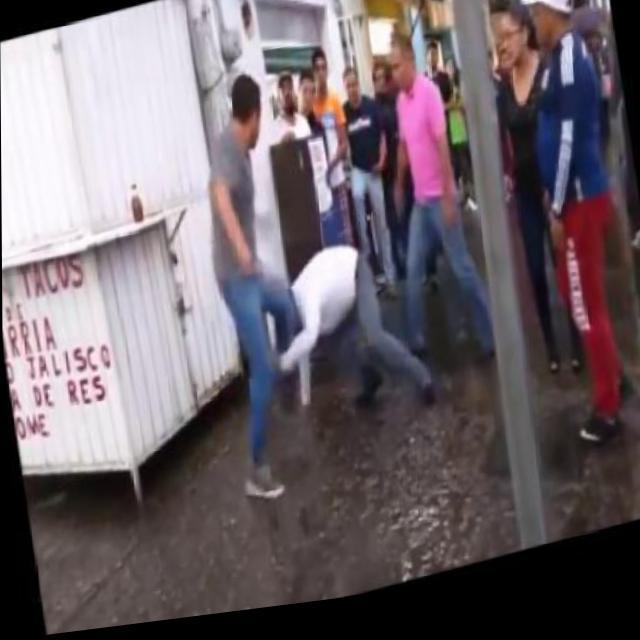fight: (188, 49, 408, 528)
